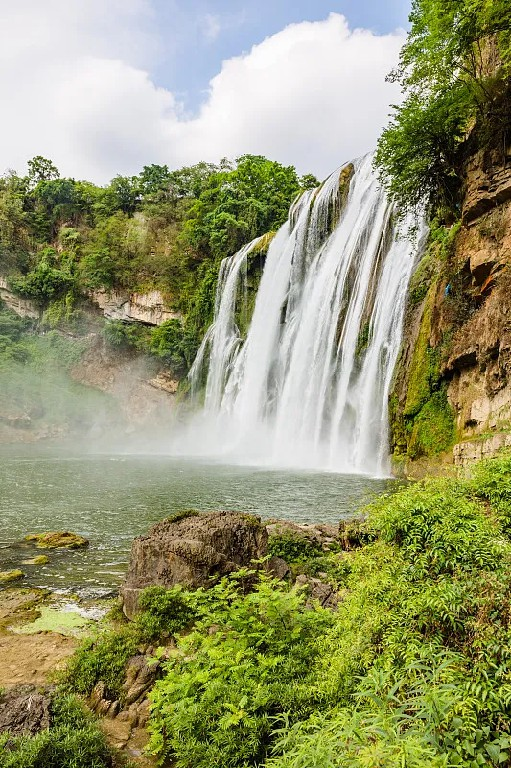Huangguoshu: (181, 151, 431, 477)
